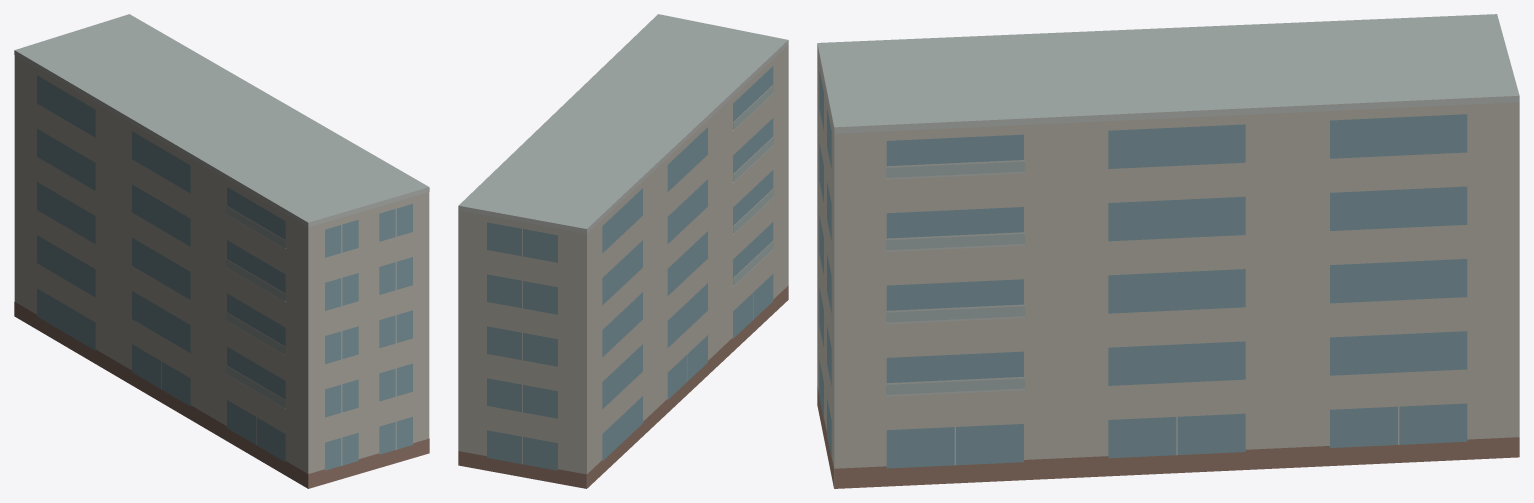
File: survey-upis-32653078.glb
The picture shows the model from 3 angles, left to right: view 1: azimuth 30°, elevation 25°; view 2: azimuth 150°, elevation 25°; view 3: azimuth 270°, elevation 25°; orthographic projection. The views are drawn at different scales.
Parts seen in each view (by area): view 1: survey-upis-32653078.tmp; view 2: survey-upis-32653078.tmp; view 3: survey-upis-32653078.tmp.
Boxes of the visible parts, box(x1,y1,x2,y2) form: survey-upis-32653078.tmp: box(14, 14, 429, 488); survey-upis-32653078.tmp: box(458, 14, 788, 488); survey-upis-32653078.tmp: box(817, 14, 1519, 488).
Bounding box in the file's own units: 9.08 × 13.5 × 23.78.
